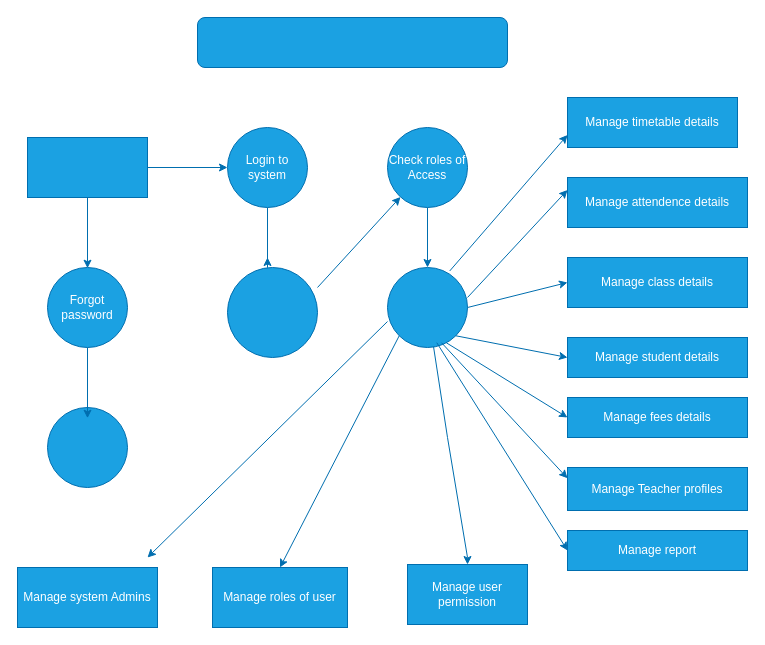
Image size: 765x645. Some labels were removed from this diagram. Each missing label, with the box of its shape:
Admin: (26, 136, 148, 198)
Check connection: (226, 266, 318, 358)
Manage Modules: (386, 266, 468, 348)
Send email to User: (46, 406, 128, 488)
Student information system: (196, 16, 508, 68)
